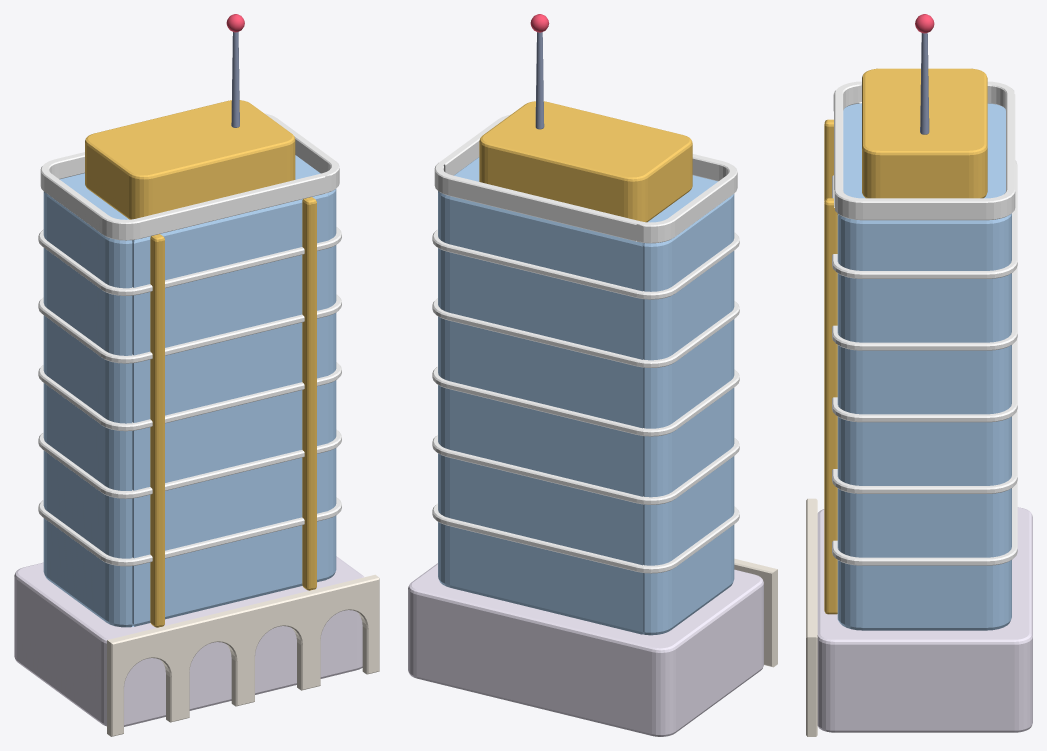
File: torre_c.glb
3 renders of one model, left to right at view 1: azimuth 30°, elevation 25°; view 2: azimuth 150°, elevation 25°; view 3: azimuth 270°, elevation 25°, orthographic. The views are drawn at different scales.
Visible parts, largest first — view 1: torre_c_vidro, torre_c_corpo; view 2: torre_c_vidro, torre_c_corpo; view 3: torre_c_vidro, torre_c_corpo.
Part boxes in pixels (box(x1,y1,x2,y2)): torre_c_vidro: box(43, 155, 336, 627); torre_c_corpo: box(14, 14, 379, 736); torre_c_vidro: box(438, 157, 734, 635); torre_c_corpo: box(408, 14, 777, 736); torre_c_vidro: box(837, 103, 1011, 630); torre_c_corpo: box(806, 14, 1032, 736).
Size of the model in its own units: 14.12 by 32.08 by 9.75.
